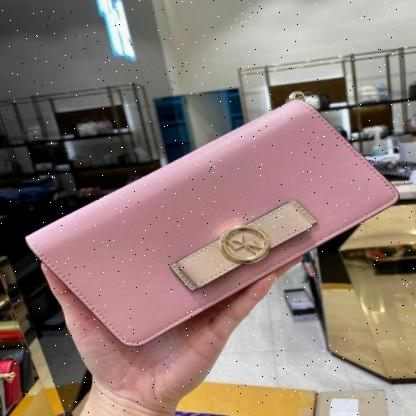bag: (20, 90, 406, 356)
